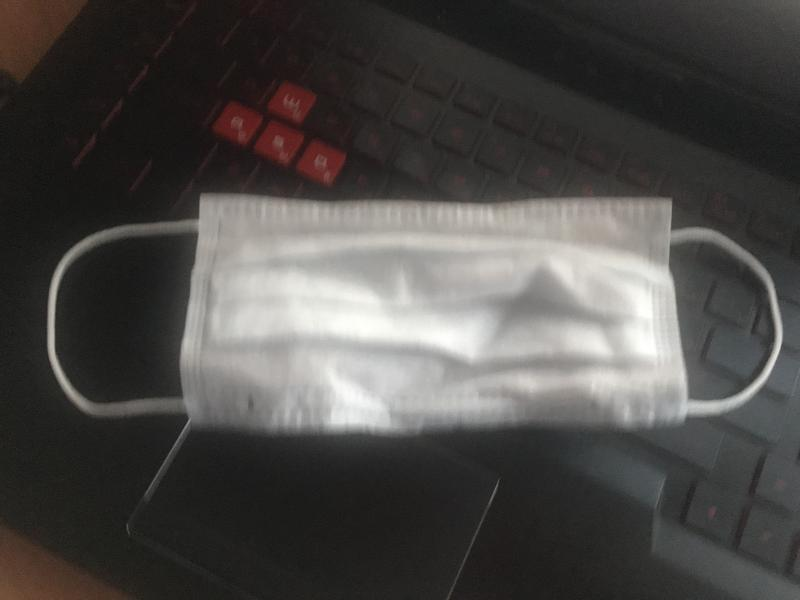medical_mask: (46, 192, 785, 431)
